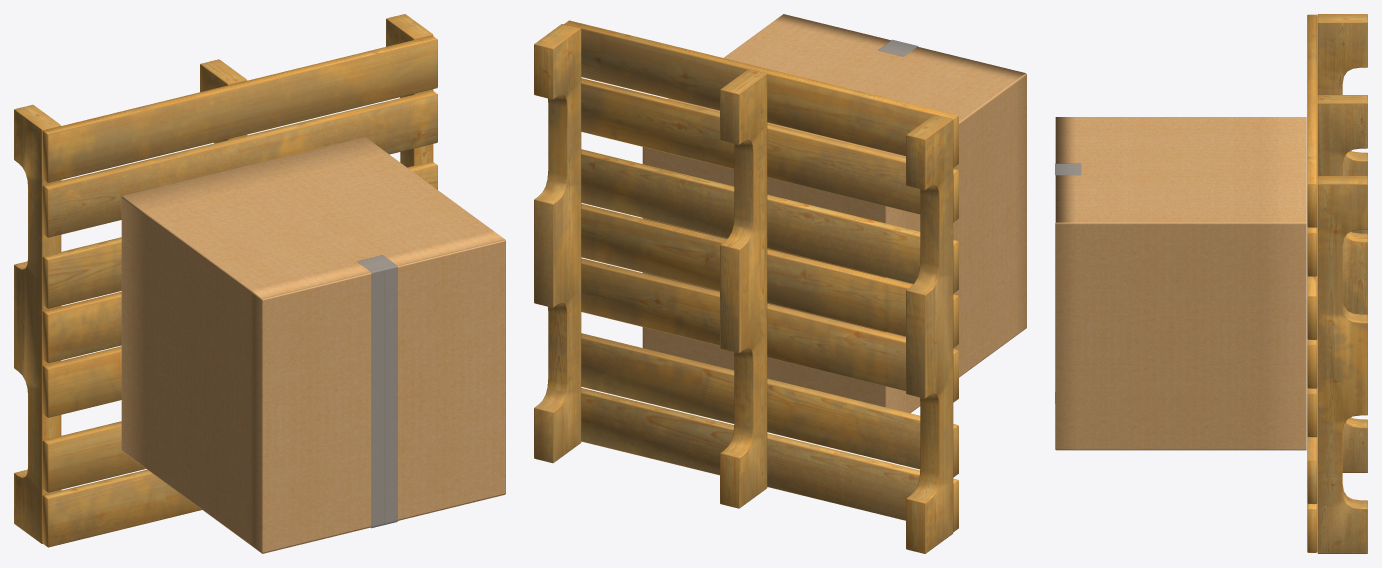
File: 14040_Cardboard_Box_On_Palette_v1_L1.obj
3 views of the same model, side by side, from view 1: azimuth 30°, elevation 25°; view 2: azimuth 150°, elevation 25°; view 3: azimuth 270°, elevation 25° (orthographic). The views are drawn at different scales.
Visible parts, largest first — view 1: Cardboard_box_on_palette_2, Cardboard_box_on_palette_1, Cardboard_box_on_palette_5, Cardboard_box_on_palette_3; view 2: Cardboard_box_on_palette_1, Cardboard_box_on_palette_5, Cardboard_box_on_palette_2; view 3: Cardboard_box_on_palette_2, Cardboard_box_on_palette_5, Cardboard_box_on_palette_1.
Boxes of the visible parts, left/top/right/bottom form: Cardboard_box_on_palette_2: left=121, top=137, right=505, bottom=553; Cardboard_box_on_palette_1: left=42, top=35, right=437, bottom=547; Cardboard_box_on_palette_5: left=14, top=14, right=433, bottom=543; Cardboard_box_on_palette_3: left=357, top=255, right=397, bottom=528; Cardboard_box_on_palette_1: left=564, top=20, right=958, bottom=531; Cardboard_box_on_palette_5: left=534, top=24, right=953, bottom=553; Cardboard_box_on_palette_2: left=642, top=14, right=1026, bottom=413; Cardboard_box_on_palette_2: left=1055, top=117, right=1306, bottom=450; Cardboard_box_on_palette_5: left=1317, top=14, right=1367, bottom=553; Cardboard_box_on_palette_1: left=1307, top=14, right=1317, bottom=552.
Size of the model in its own units: 80.21 by 81.2 by 62.22.
Materials: 3 (2 with a texture image).
